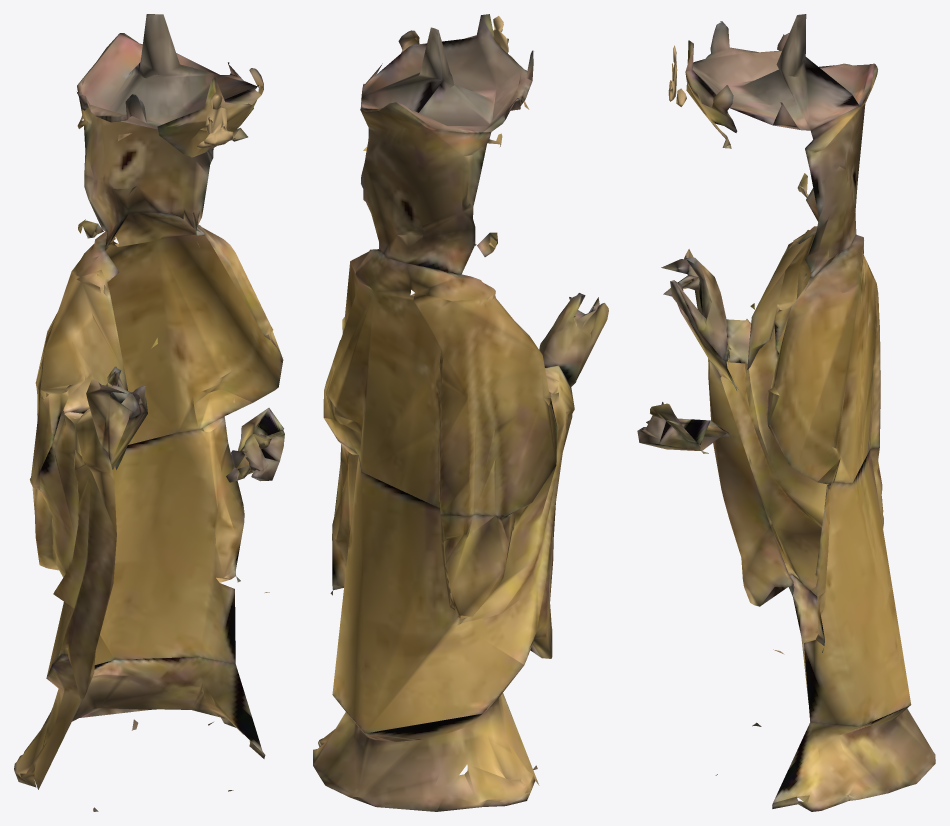
File: avalokitesvara.glb
3 views of the same model, side by side, from view 1: azimuth 30°, elevation 25°; view 2: azimuth 150°, elevation 25°; view 3: azimuth 270°, elevation 25° (orthographic). The views are drawn at different scales.
Visible parts, largest first — view 1: NMK_Goryeo_companion_interpreted_as_avalokitesvara, Amitabha_crown_relief_huabul; view 2: NMK_Goryeo_companion_interpreted_as_avalokitesvara; view 3: NMK_Goryeo_companion_interpreted_as_avalokitesvara.
Boxes of the visible parts, <box> form: NMK_Goryeo_companion_interpreted_as_avalokitesvara: <box>14,14,284,811</box>; Amitabha_crown_relief_huabul: <box>204,92,235,146</box>; NMK_Goryeo_companion_interpreted_as_avalokitesvara: <box>313,14,608,811</box>; NMK_Goryeo_companion_interpreted_as_avalokitesvara: <box>637,14,935,811</box>.
Size of the model in its own units: 0.331 by 0.9944 by 0.3581.
2 materials, 1 textured.
